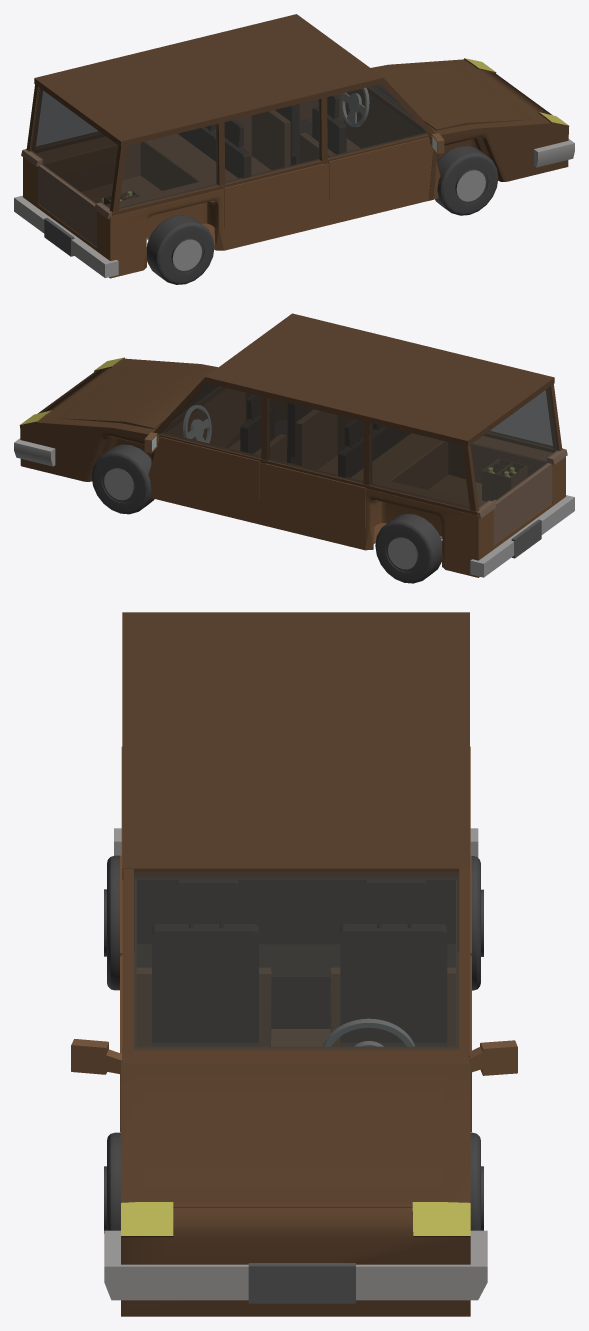
The model's file is Main Car.fbx.
3 views of the same model, one above another, from view 1: azimuth 30°, elevation 25°; view 2: azimuth 150°, elevation 25°; view 3: azimuth 270°, elevation 25° (orthographic). The views are drawn at different scales.
Parts seen in each view (by area): view 1: car_front1; view 2: car_front1; view 3: car_front1.
Boxes of the visible parts, x1,y1,x2,y2 form: car_front1: (14, 14, 574, 284); car_front1: (14, 313, 574, 583); car_front1: (71, 612, 517, 1316).
Size of the model in its own units: 10.15 by 3.22 by 4.18.
